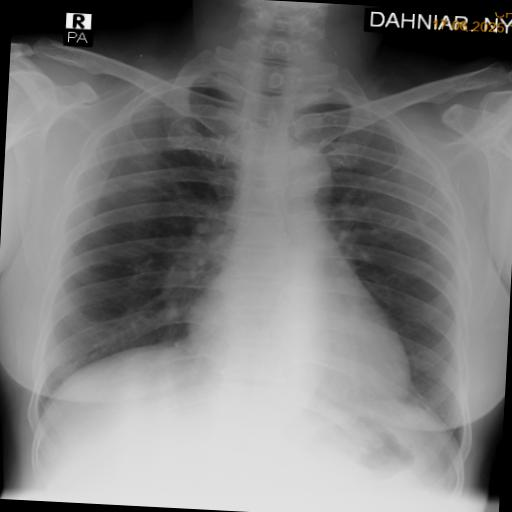kardiomegali: (21, 27, 496, 457)
